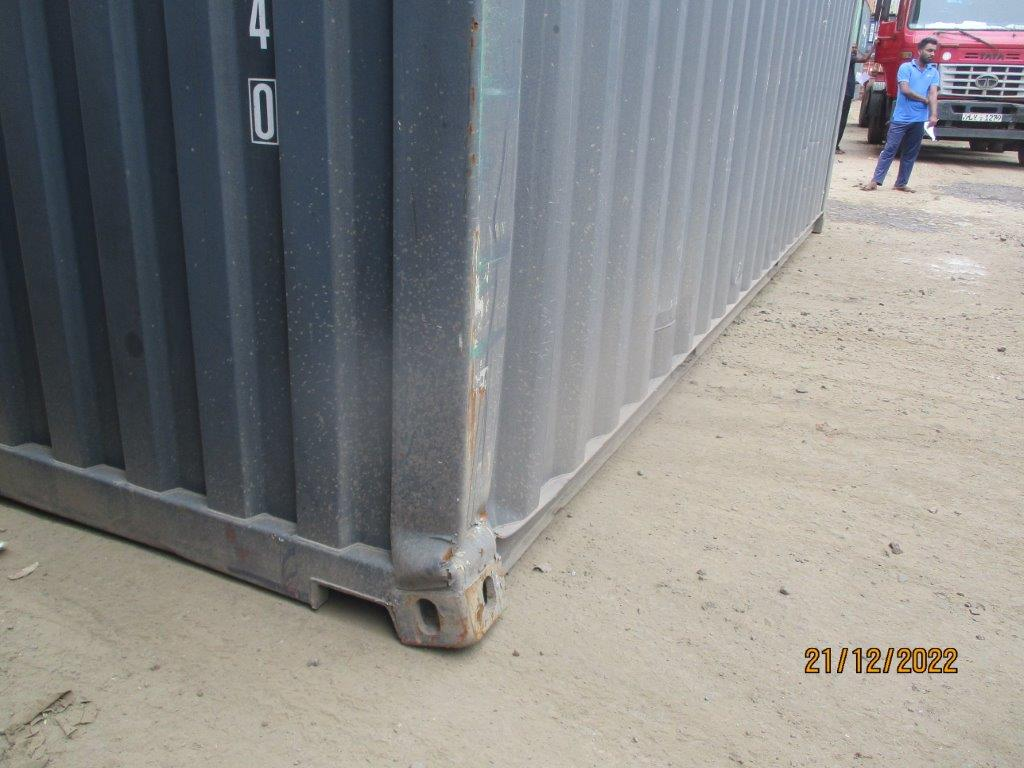dented: (358, 453, 520, 595)
